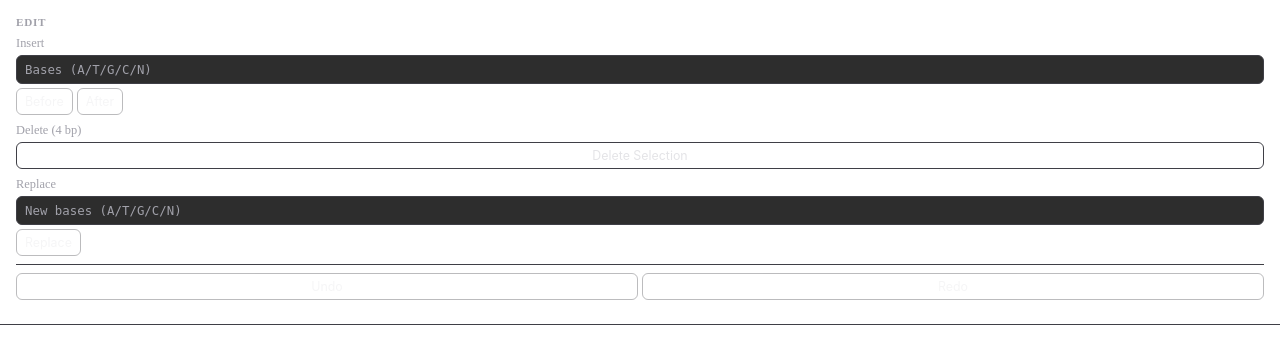
EditPanel › shows dirty indicator after edit
What coordinates should you click on to do the following:
click the button "Delete Selection"
I would click on:
 (640, 156)
Its box is 16,142 -> 1264,169.
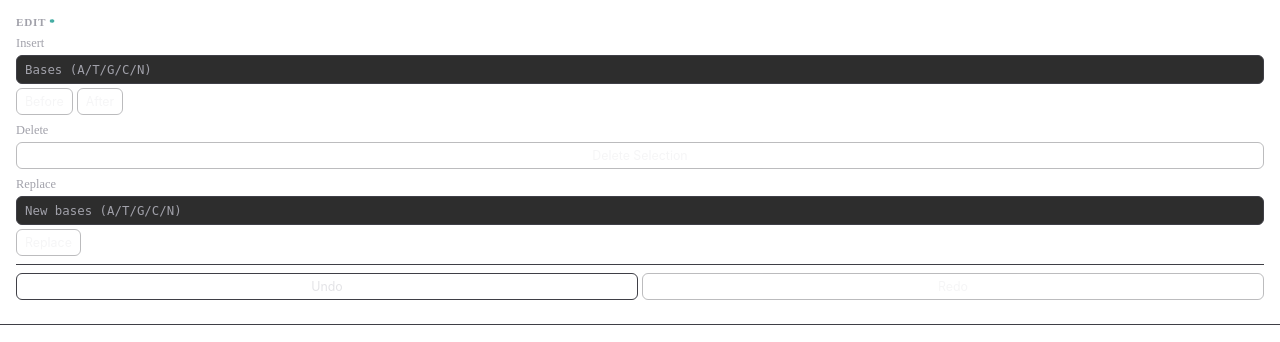
Now the text "*" is shown, box 49,16 -> 56,28
